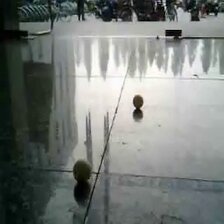w: (72, 159, 92, 183), (132, 94, 145, 109)
